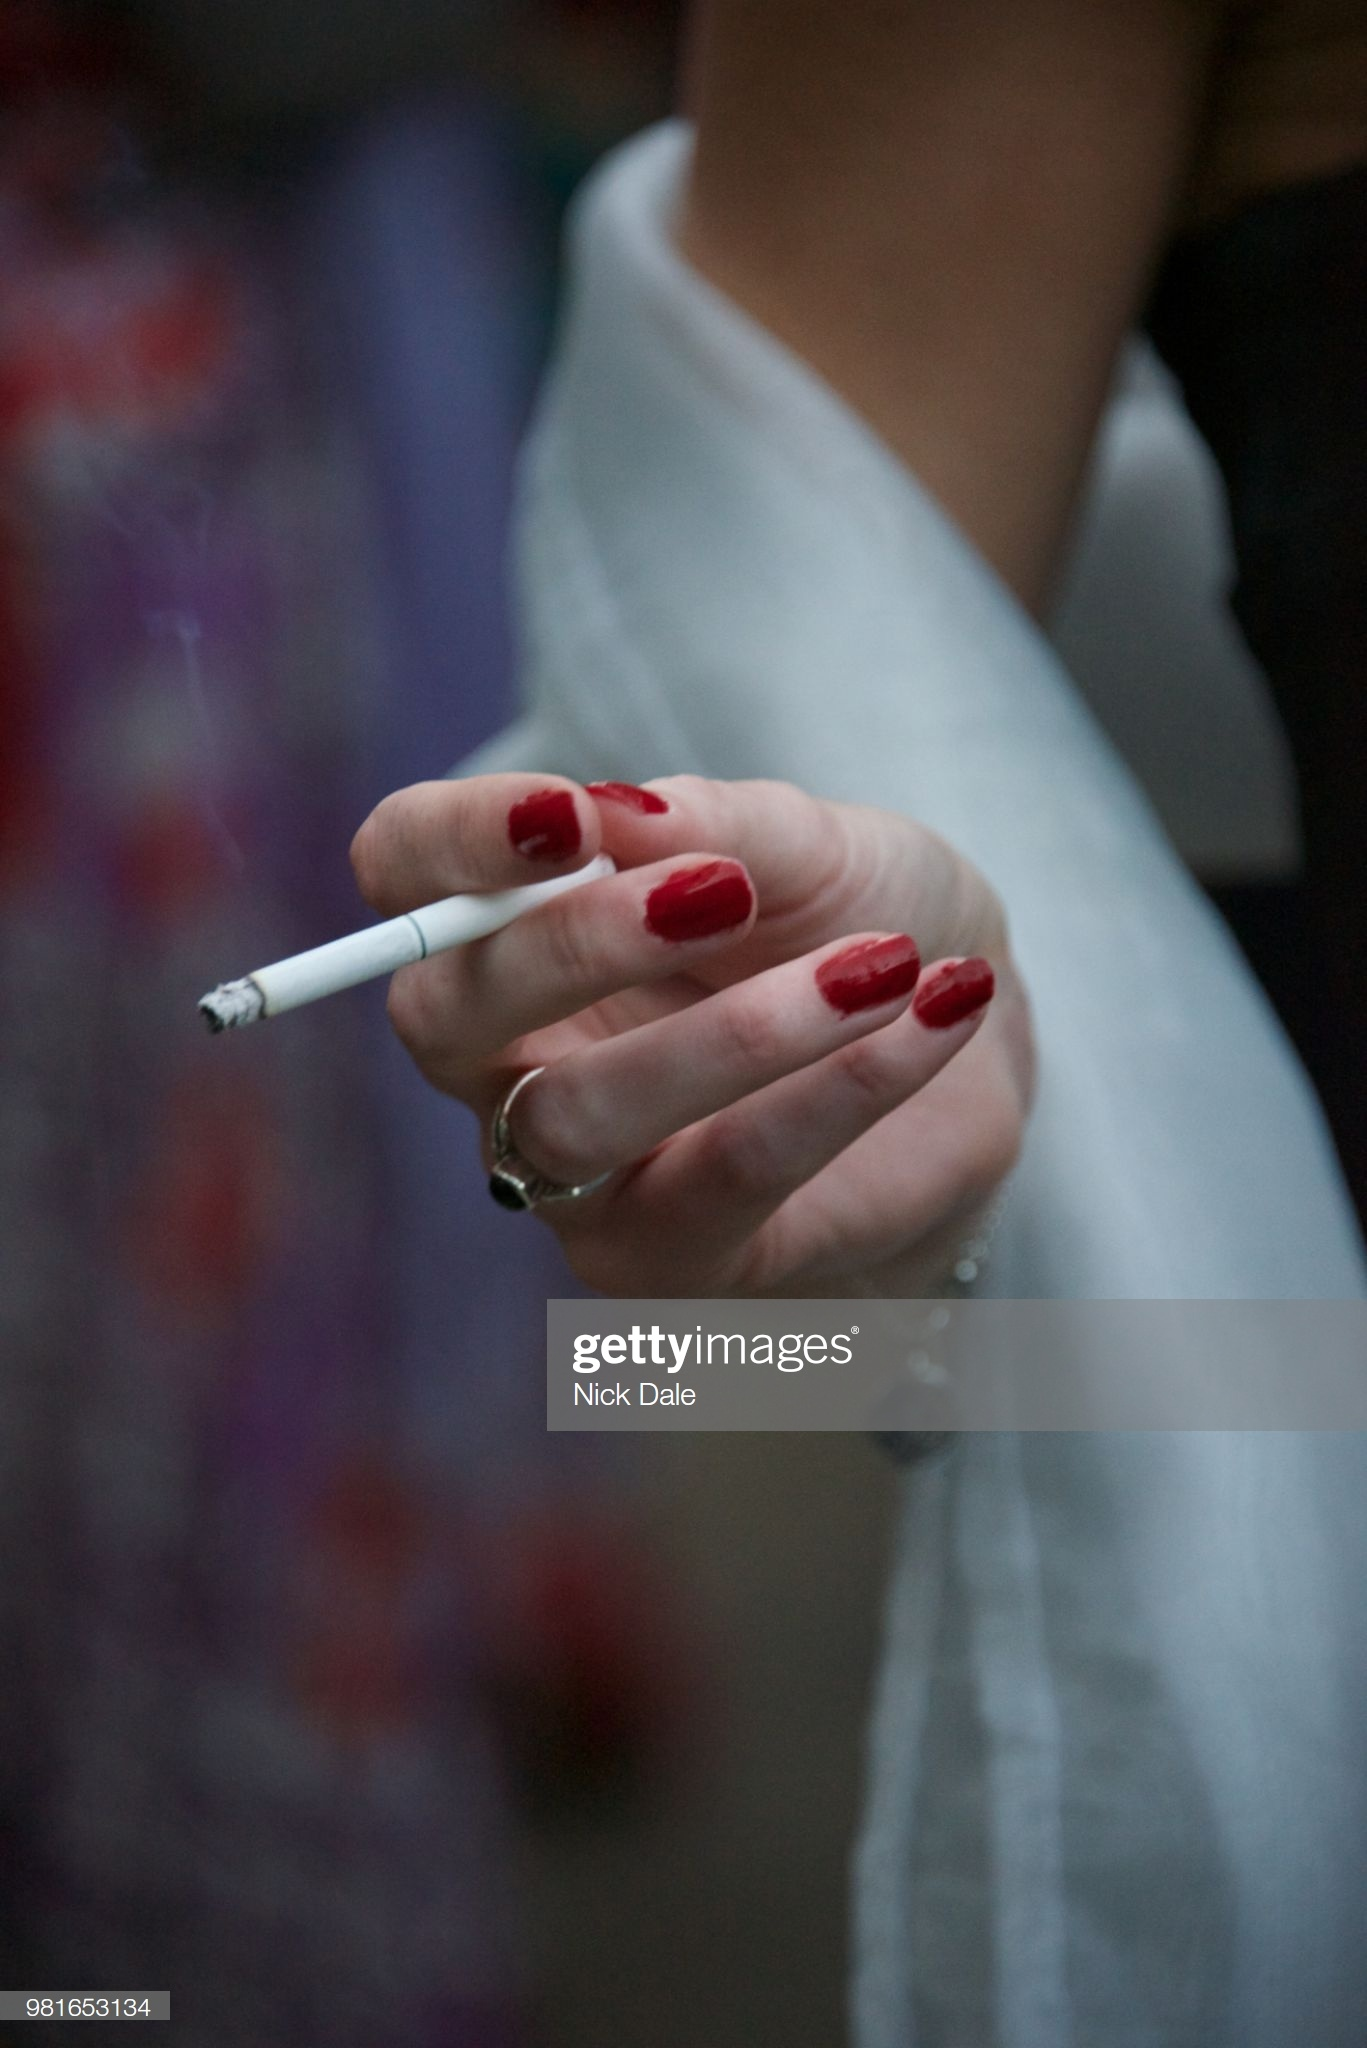sigaretta: (230, 823, 593, 1042)
